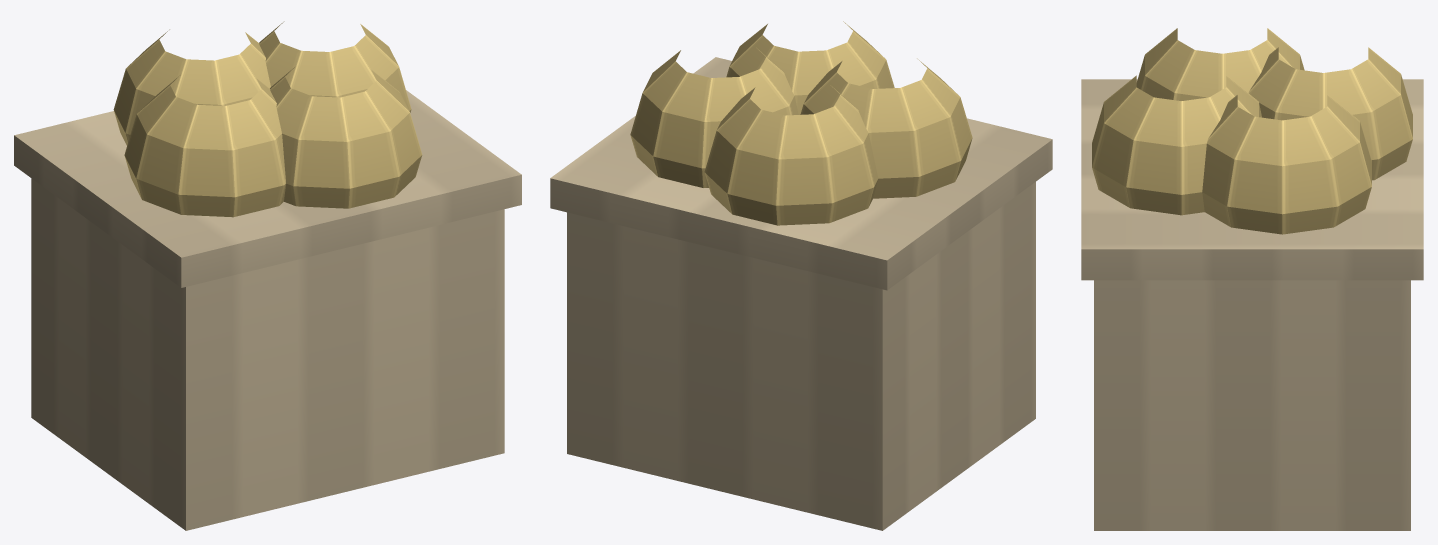
Rendered from market_basket.glb.
3 renders of one model, left to right at view 1: azimuth 30°, elevation 25°; view 2: azimuth 150°, elevation 25°; view 3: azimuth 270°, elevation 25°, orthographic. The views are drawn at different scales.
Visible parts, largest first — view 1: market_basket; view 2: market_basket; view 3: market_basket.
Boxes of the visible parts, left/top/right/bottom form: market_basket: left=14, top=21, right=521, bottom=530; market_basket: left=550, top=21, right=1052, bottom=530; market_basket: left=1081, top=28, right=1423, bottom=530.
Bounding box in the file's own units: 0.94 × 1.02 × 0.8.
1 material, 1 textured.
